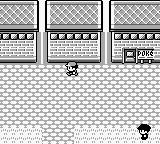main: (65, 62, 78, 75)
no-caminable: (46, 1, 102, 63), (109, 1, 159, 63), (0, 1, 38, 63)
npc: (137, 124, 150, 139)
puerta: (124, 50, 135, 63)
